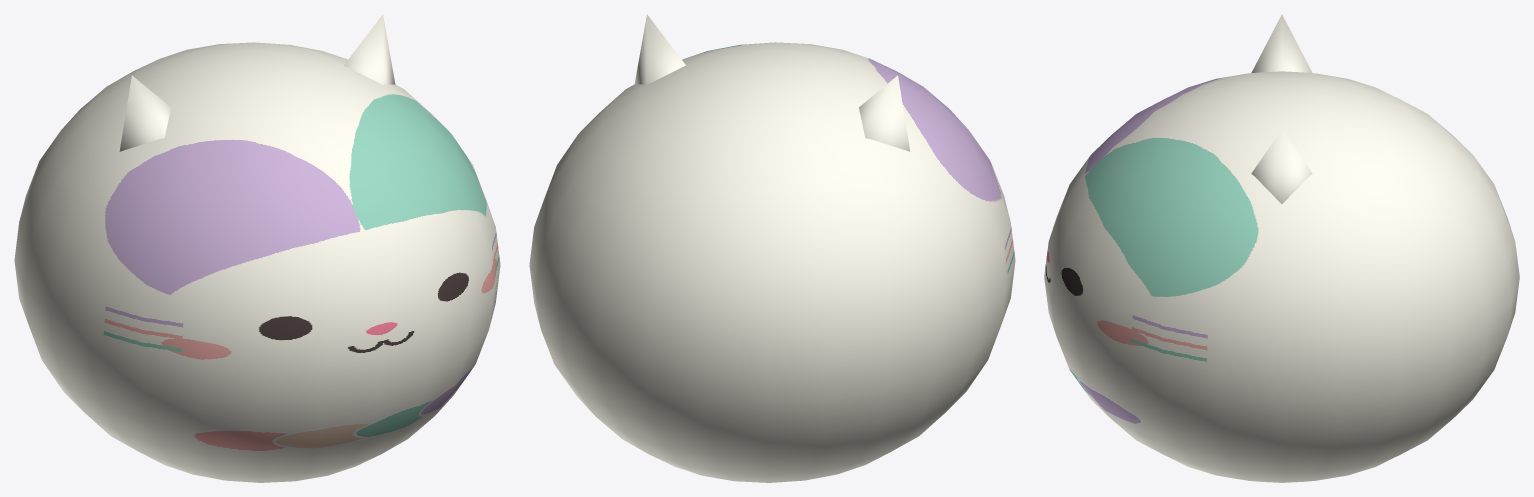
Rendered from neko_cat.glb.
3 views of the same model, side by side, from view 1: azimuth 30°, elevation 25°; view 2: azimuth 150°, elevation 25°; view 3: azimuth 270°, elevation 25° (orthographic). The views are drawn at different scales.
Parts seen in each view (by area): view 1: neko_cat; view 2: neko_cat; view 3: neko_cat.
Part boxes in pixels (x1=…): neko_cat: x1=14, y1=14, x2=500, y2=482; neko_cat: x1=529, y1=14, x2=1015, y2=482; neko_cat: x1=1044, y1=14, x2=1519, y2=482.
Size of the model in its own units: 1.33 by 1.26 by 1.4.
Materials: 1 (1 with a texture image).
